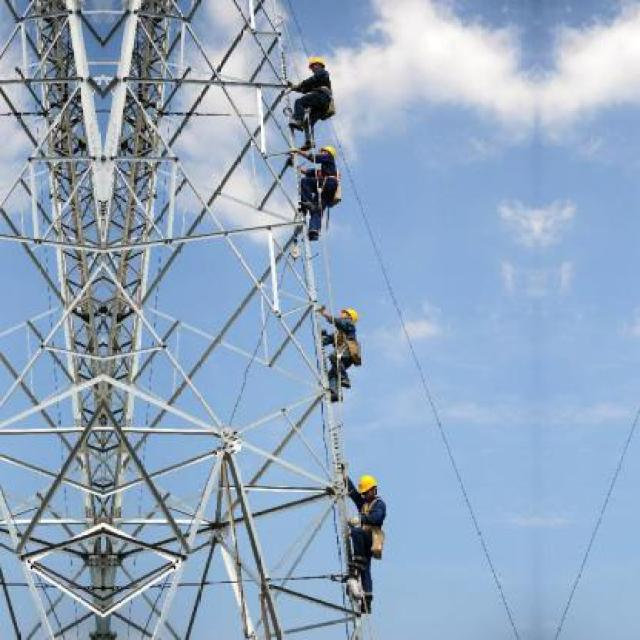helmet: (356, 473, 376, 502), (313, 142, 336, 166), (334, 307, 358, 327), (308, 54, 326, 76)
